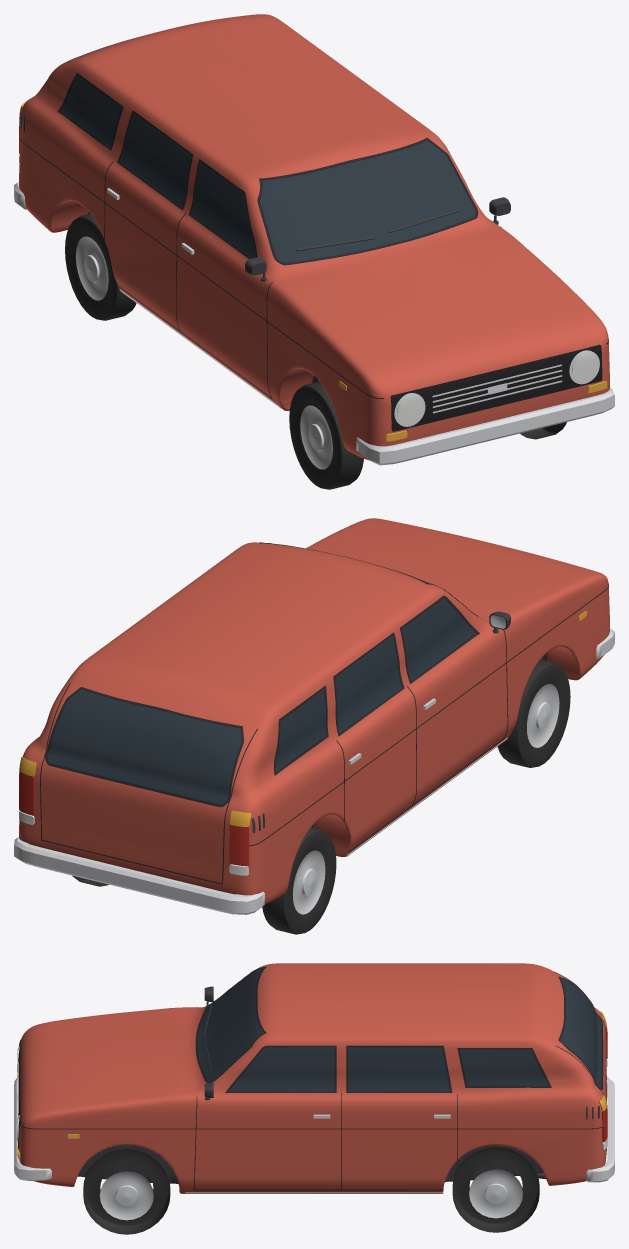
File: leone.glb
3 views of the same model, one above another, from view 1: azimuth 30°, elevation 25°; view 2: azimuth 150°, elevation 25°; view 3: azimuth 270°, elevation 25° (orthographic). The views are drawn at different scales.
Parts seen in each view (by area): view 1: paint, glass, trim, wheel_fr, wheel_rr, headlights, mirrors; view 2: paint, glass, trim, wheel_fr, wheel_rr, taillights; view 3: paint, glass, trim, wheel_rl, wheel_fl.
Boxes of the visible parts, x1=… form: paint: x1=19, y1=14, x2=609, y2=460; glass: x1=60, y1=76, x2=475, y2=262; trim: x1=14, y1=39, x2=614, y2=465; wheel_fr: x1=289, y1=381, x2=363, y2=489; wheel_rr: x1=65, y1=213, x2=136, y2=320; headlights: x1=397, y1=353, x2=597, y2=424; mirrors: x1=245, y1=197, x2=510, y2=281; paint: x1=19, y1=518, x2=609, y2=903; glass: x1=47, y1=581, x2=475, y2=804; trim: x1=14, y1=542, x2=614, y2=914; wheel_fr: x1=497, y1=659, x2=570, y2=767; wheel_rr: x1=262, y1=827, x2=336, y2=934; taillights: x1=19, y1=771, x2=249, y2=865; paint: x1=19, y1=963, x2=606, y2=1193; glass: x1=197, y1=968, x2=601, y2=1091; trim: x1=14, y1=966, x2=614, y2=1193; wheel_rl: x1=452, y1=1147, x2=539, y2=1232; wheel_fl: x1=83, y1=1149, x2=170, y2=1234.
Size of the model in its own units: 1.62 by 1.45 by 3.99.
